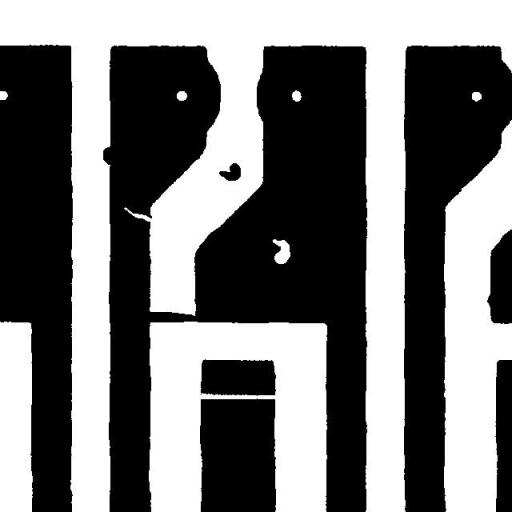copper: (211, 155, 248, 188)
mousebite: (116, 199, 158, 229)
open: (189, 385, 290, 406)
pin-hole: (264, 231, 298, 271)
short: (138, 302, 208, 330)
spur: (95, 139, 122, 172)
